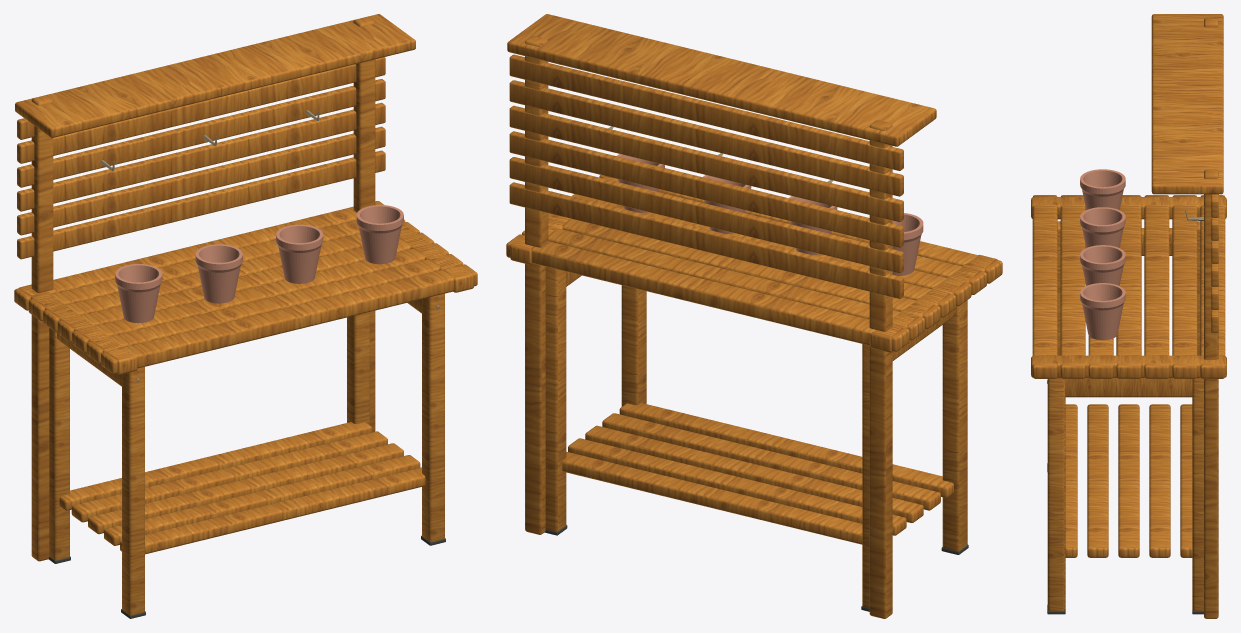
Rendered from garden-potting-bench.glb.
3 views of the same model, side by side, from view 1: azimuth 30°, elevation 25°; view 2: azimuth 150°, elevation 25°; view 3: azimuth 270°, elevation 25° (orthographic). The views are drawn at different scales.
Visible parts, largest first — view 1: garden-potting-bench; view 2: garden-potting-bench; view 3: garden-potting-bench.
Part boxes in pixels (<box>): garden-potting-bench: <box>14,14,477,618</box>; garden-potting-bench: <box>506,14,1002,618</box>; garden-potting-bench: <box>1031,14,1226,618</box>.
Bounding box in the file's own units: 1.25 × 1.5 × 0.6.
Materials: 4 (1 with a texture image).
